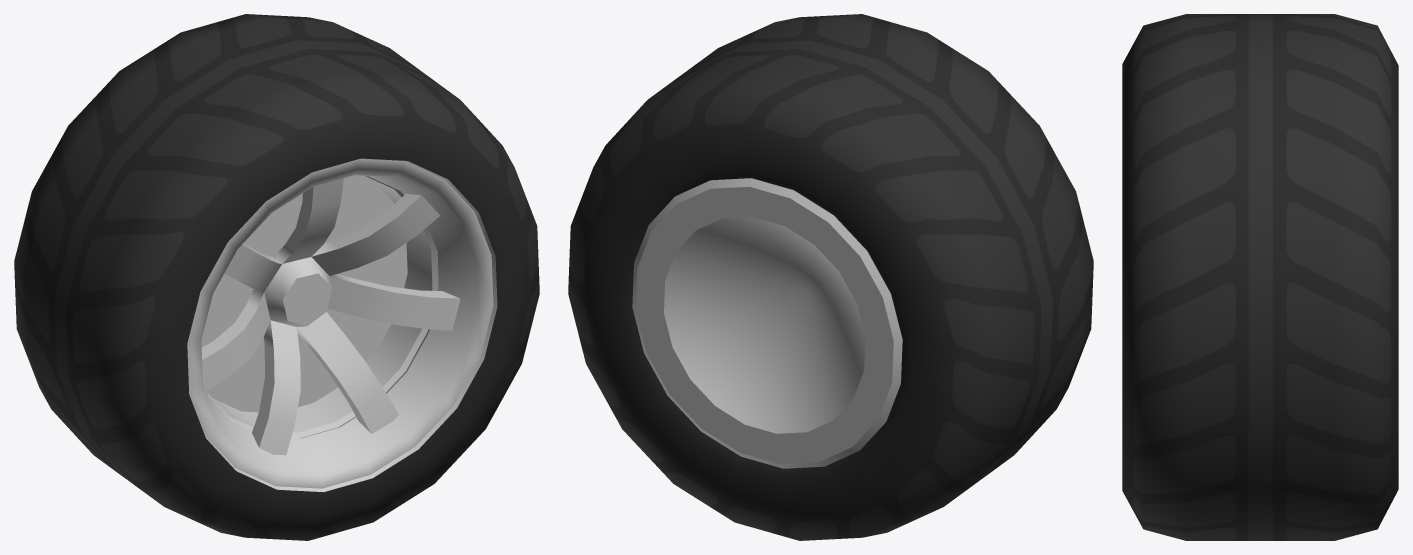
Rendered from Wheel_11.fbx.
The picture shows the model from 3 angles, left to right: view 1: azimuth 30°, elevation 25°; view 2: azimuth 150°, elevation 25°; view 3: azimuth 270°, elevation 25°; orthographic projection. The views are drawn at different scales.
Visible parts, largest first — view 1: Wheel_11; view 2: Wheel_11; view 3: Wheel_11.
Boxes of the visible parts, bbox=[...] form: Wheel_11: bbox=[14, 14, 539, 540]; Wheel_11: bbox=[568, 14, 1093, 540]; Wheel_11: bbox=[1122, 14, 1398, 540].
Size of the model in its own units: 94.95 by 49.97 by 94.95.
